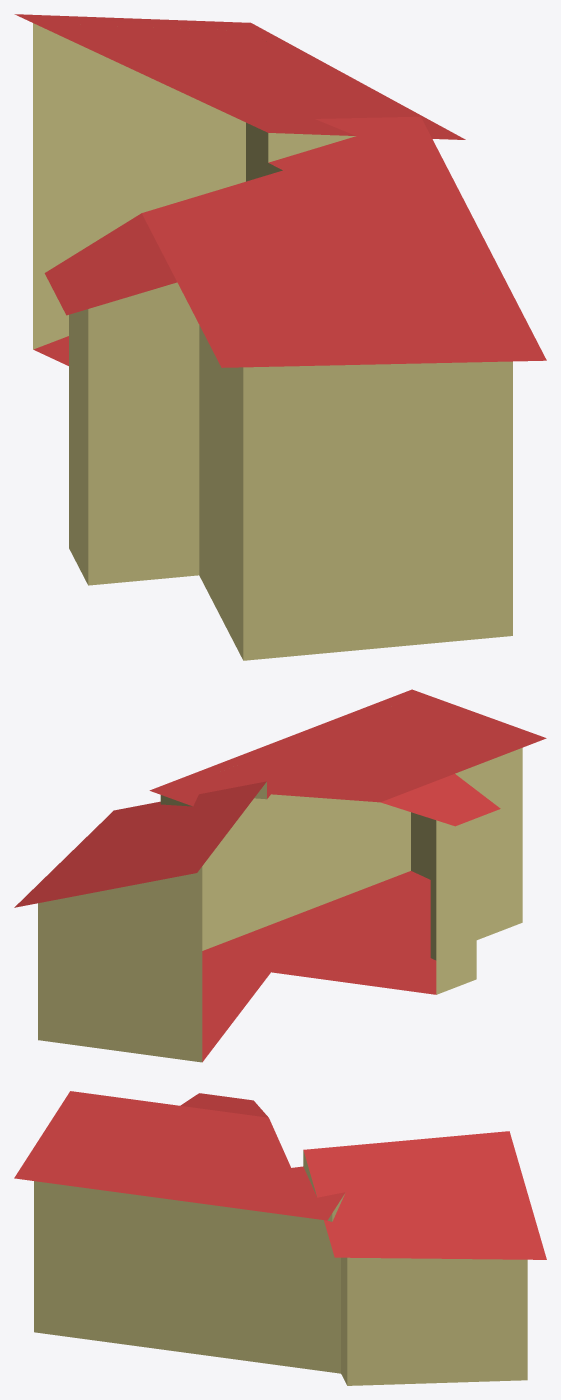
3 renders of one model, top to bottom at view 1: azimuth 30°, elevation 25°; view 2: azimuth 150°, elevation 25°; view 3: azimuth 270°, elevation 25°, orthographic. The views are drawn at different scales.
Size of the model in its own units: 15.83 by 25.16 by 9.47.
